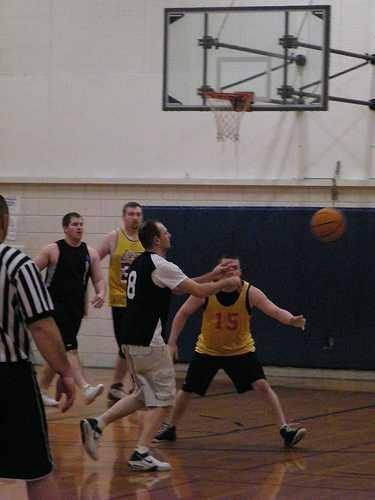ball: (308, 206, 350, 246)
human: (79, 218, 242, 474), (153, 248, 309, 453), (0, 191, 77, 500), (27, 210, 108, 404), (95, 201, 146, 403)
rim: (201, 90, 254, 146)
